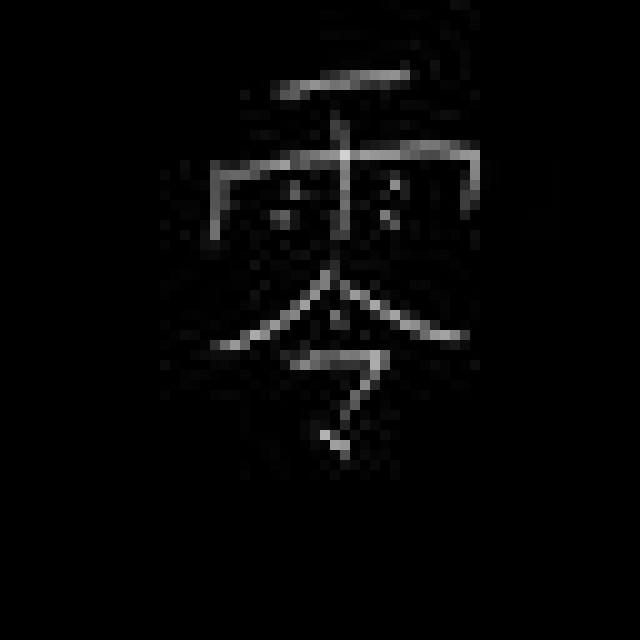0 -zero-: (184, 57, 494, 474)
